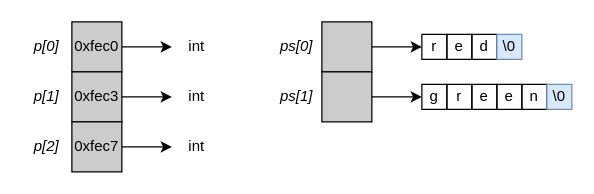
Some shapes in this 594 by 194 pixel diagram are drawn without their labels. The shapes that lost their labels are listed below. From the top down, each one's centre as x and y in pixels, then its label:
the point at 346,46: 0xfecb
the point at 346,96: 0xfecf
